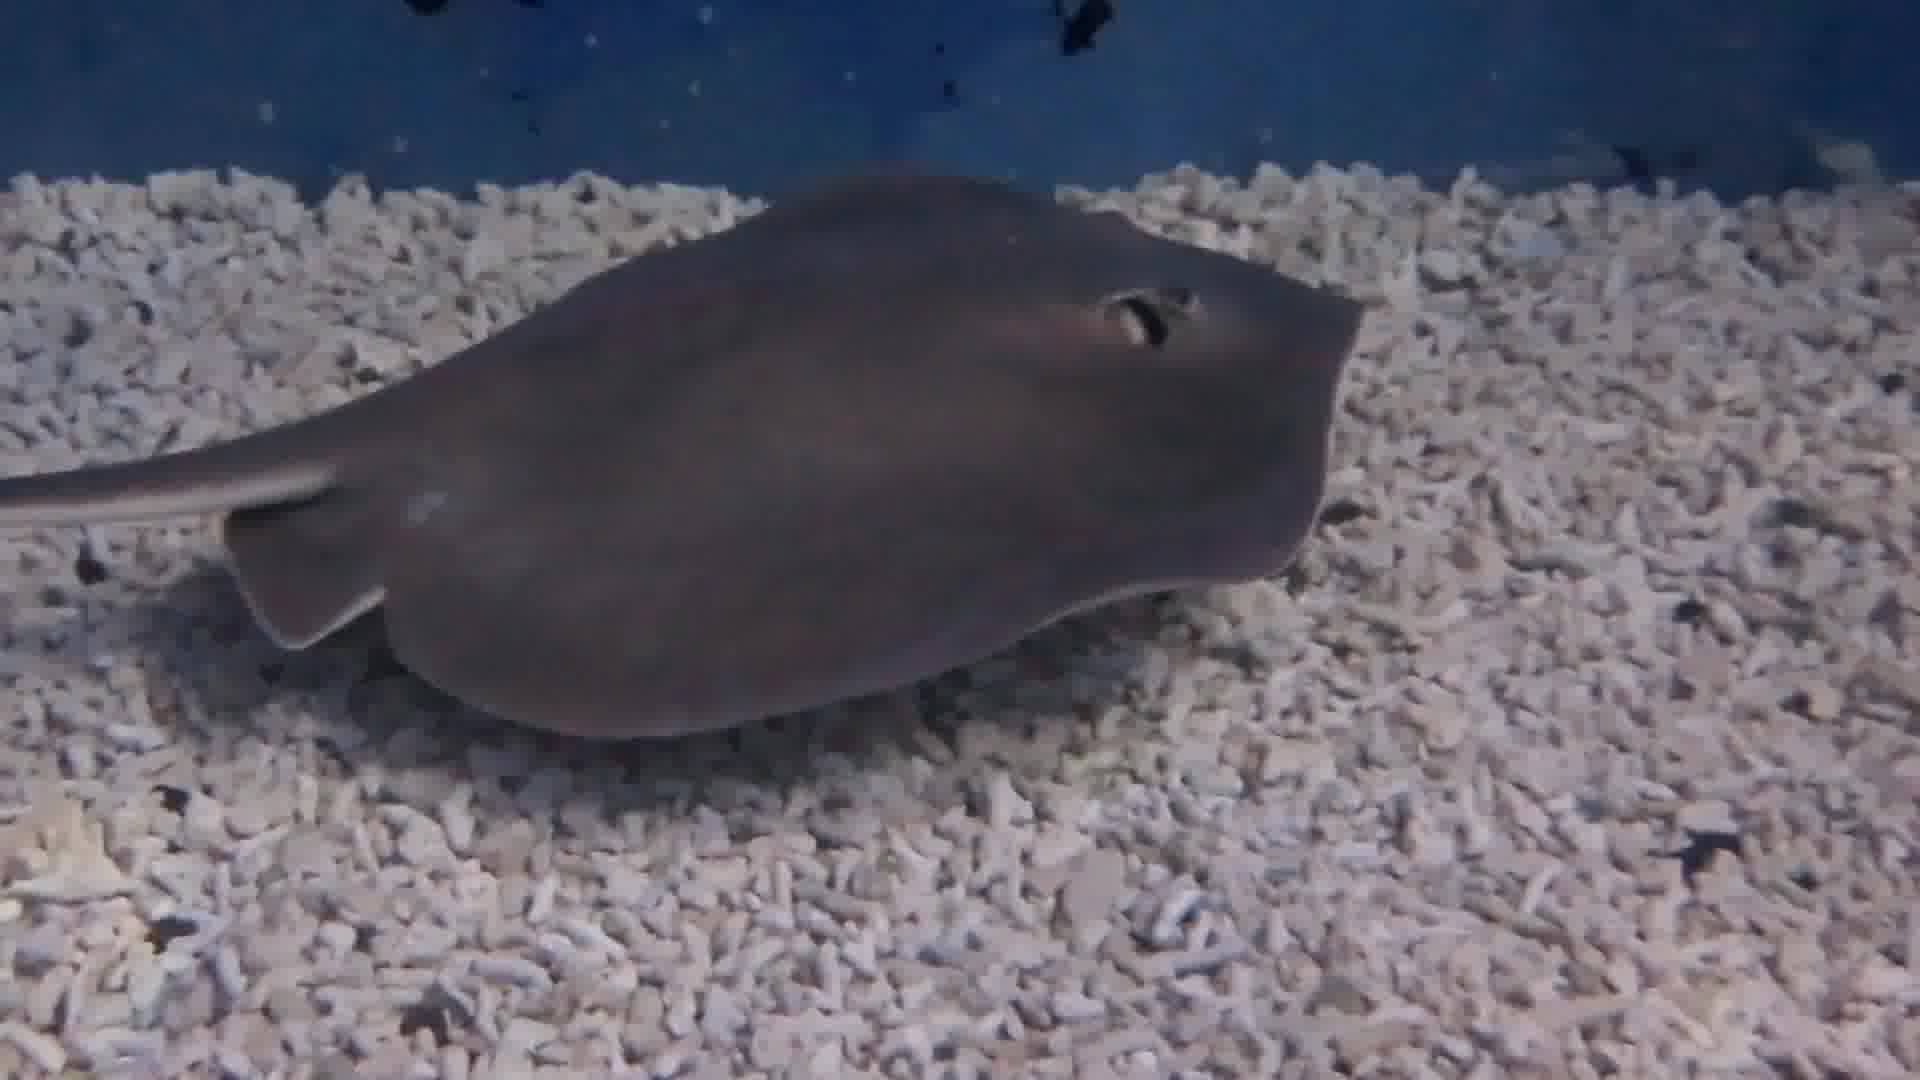Dasyatis bennetti: (95, 36, 1458, 887)
